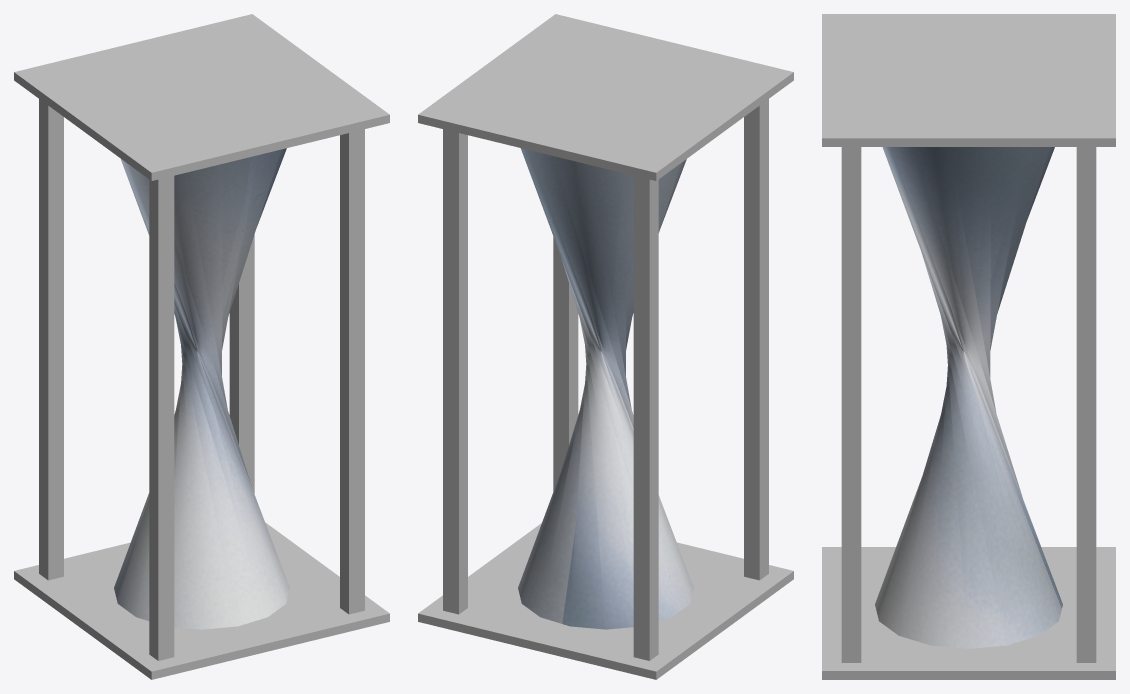
Rendered from hourglass.FBX.
3 views of the same model, side by side, from view 1: azimuth 30°, elevation 25°; view 2: azimuth 150°, elevation 25°; view 3: azimuth 270°, elevation 25° (orthographic). The views are drawn at different scales.
Parts seen in each view (by area): view 1: Cylinder001, Box005, Box004, Box007, Box008, Box006, Box009; view 2: Cylinder001, Box005, Box004, Box006, Box009, Box007, Box008; view 3: Cylinder001, Box005, Box004, Box008, Box009.
Boxes of the visible parts, x1,y1,x2,y2 form: Cylinder001: [114, 148, 289, 629]; Box005: [14, 14, 389, 180]; Box004: [14, 522, 389, 679]; Box007: [149, 176, 174, 660]; Box008: [340, 129, 364, 614]; Box006: [39, 99, 63, 580]; Box009: [229, 234, 254, 493]; Cylinder001: [518, 148, 693, 629]; Box005: [418, 14, 793, 180]; Box004: [418, 523, 793, 679]; Box006: [633, 176, 658, 660]; Box009: [443, 129, 467, 614]; Box007: [744, 99, 768, 580]; Box008: [553, 237, 578, 491]; Cylinder001: [875, 147, 1062, 648]; Box005: [822, 14, 1115, 146]; Box004: [822, 547, 1115, 679]; Box008: [841, 147, 861, 662]; Box009: [1076, 147, 1096, 662].
Size of the model in its own units: 59.06 by 120 by 59.06.
